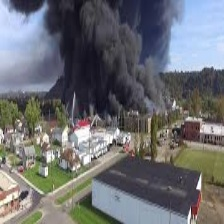smoke: (27, 1, 192, 108)
